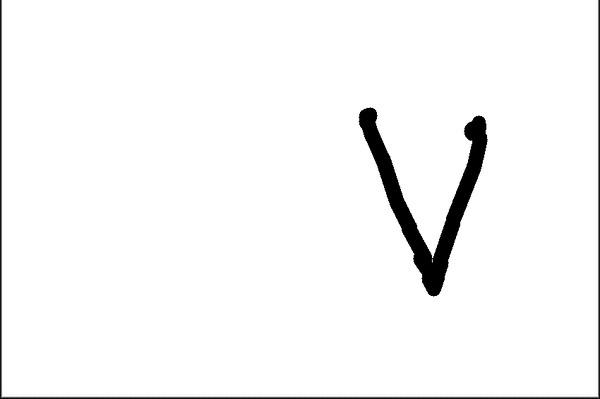V: (355, 89, 511, 300)
